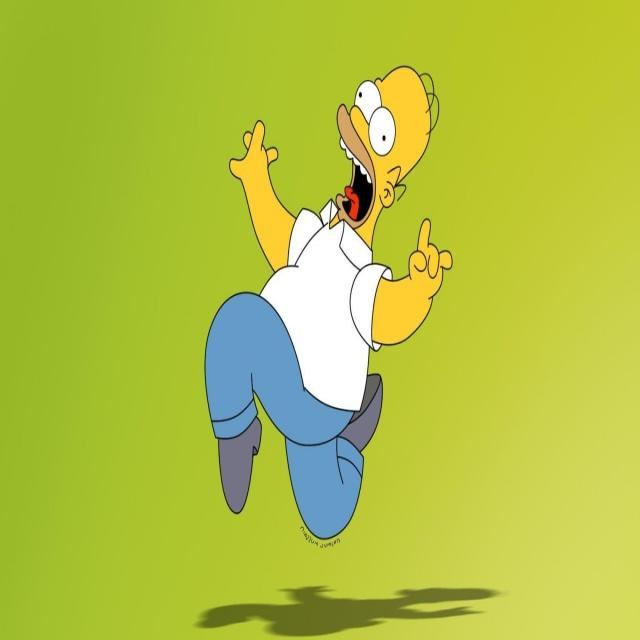Homer Simpson: (329, 60, 442, 244)
